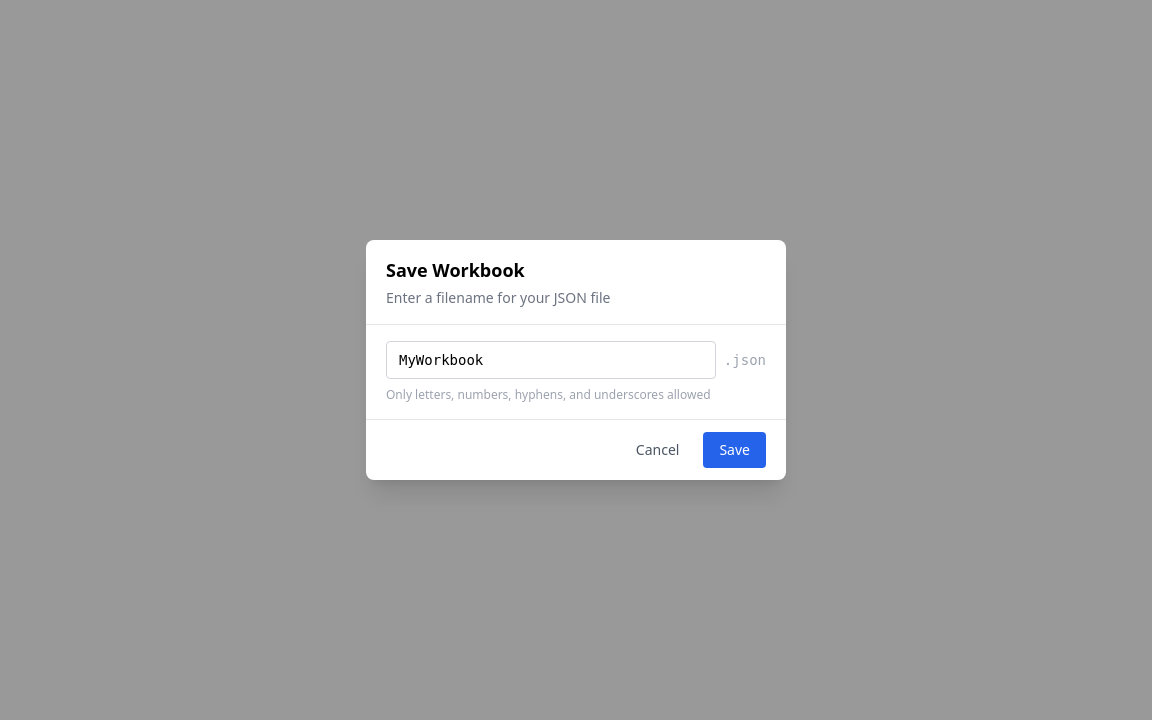
Test: FilenameModal › shows error for reserved system filename
Replace the text in the field showing "MyWorkbook" with "CON" at x=551, y=360, box [386,341,716,379]
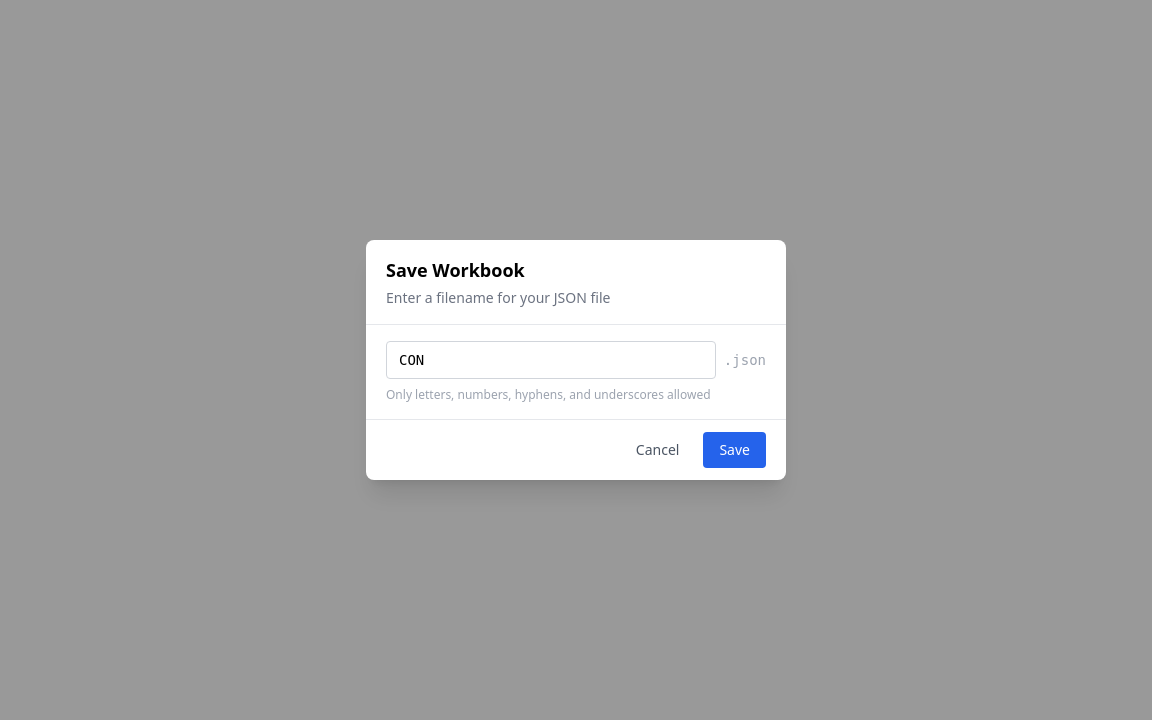
Click the button "Save" at x=735, y=450, box [703,432,766,468]
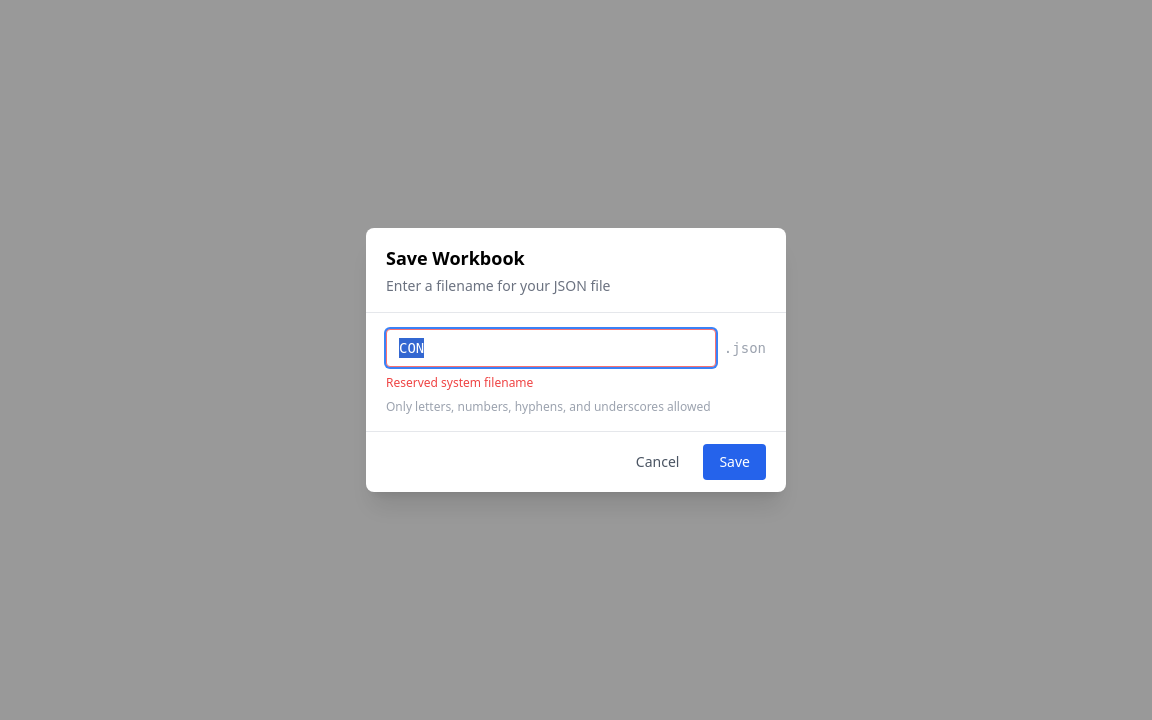
Check: the text "Reserved system filename" is shown, box [386,374,533,391]
